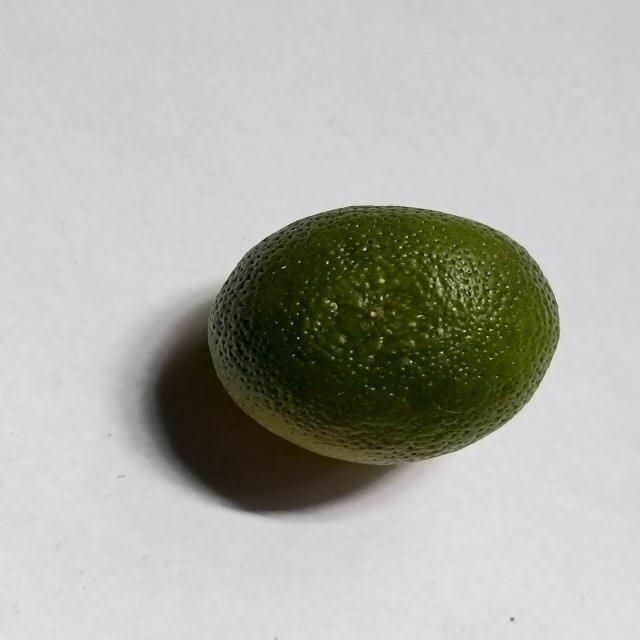heathy: (214, 202, 565, 467)
